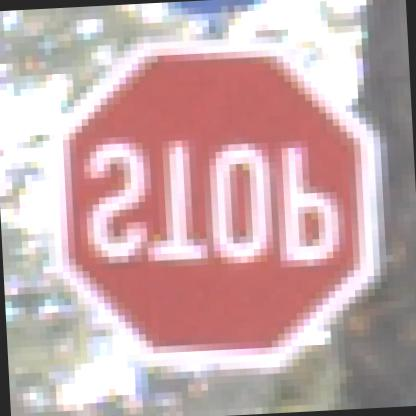stop: (26, 19, 410, 370)
